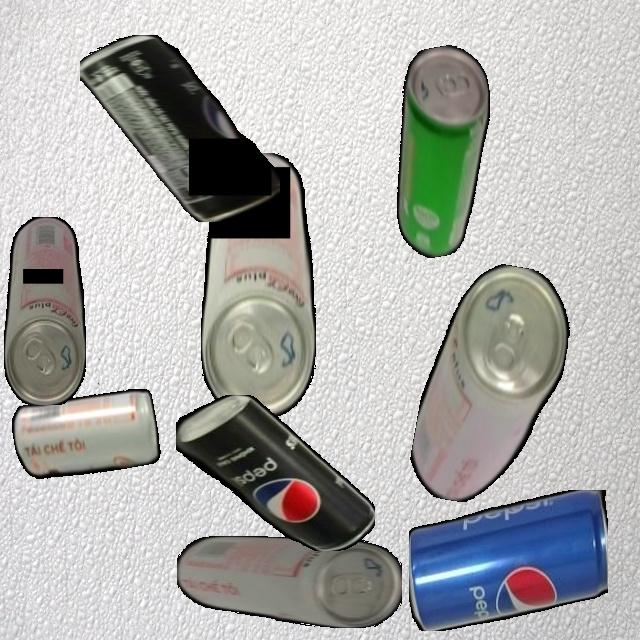debris: (405, 255, 579, 515), (80, 34, 280, 222), (370, 40, 516, 262), (175, 395, 375, 551), (200, 152, 316, 416), (408, 489, 608, 631), (176, 536, 402, 628), (9, 384, 163, 486), (3, 216, 86, 405)
